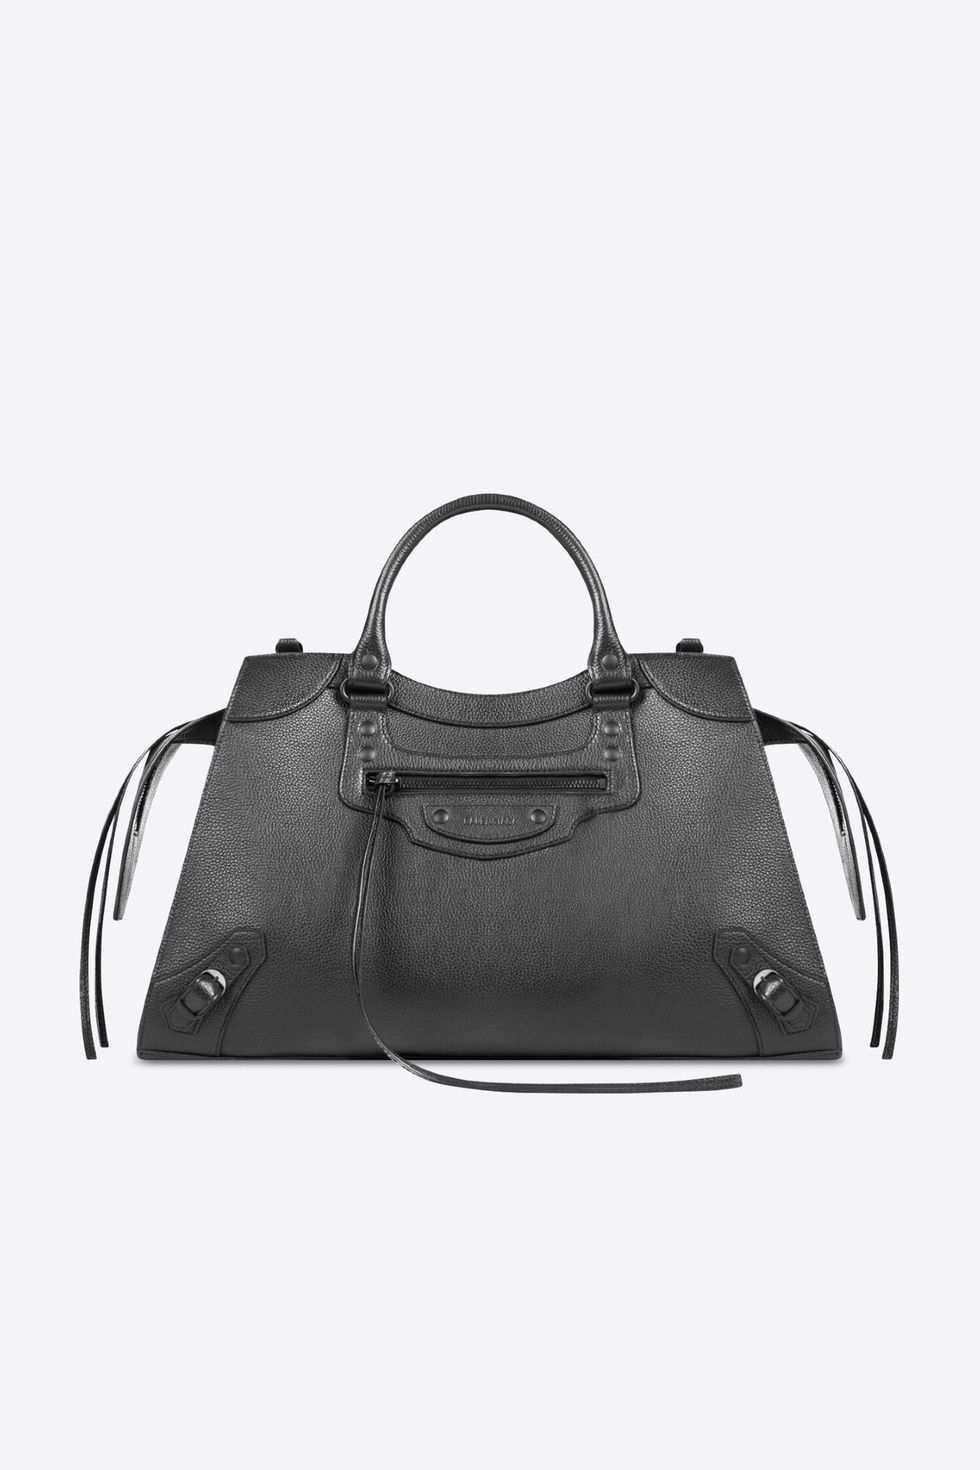cartera: (66, 488, 919, 1096)
lona: (129, 645, 866, 1075)
